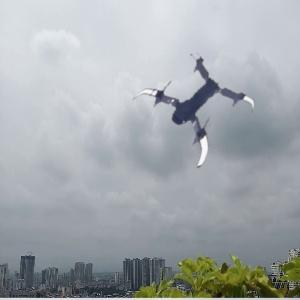drone: (135, 56, 246, 167)
